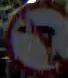Don't turn left: (6, 1, 67, 77)
